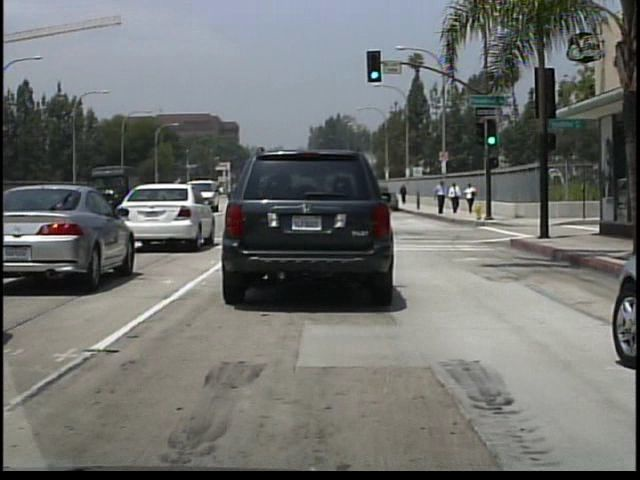person: (437, 178, 451, 217), (449, 183, 463, 217), (466, 181, 479, 215), (400, 184, 410, 206)
